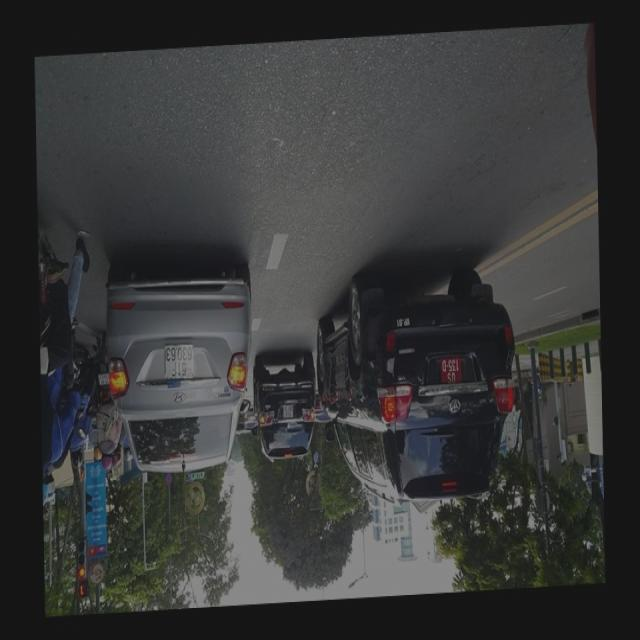bien_do: (437, 354, 467, 399)
bien_trang: (160, 340, 197, 379)
